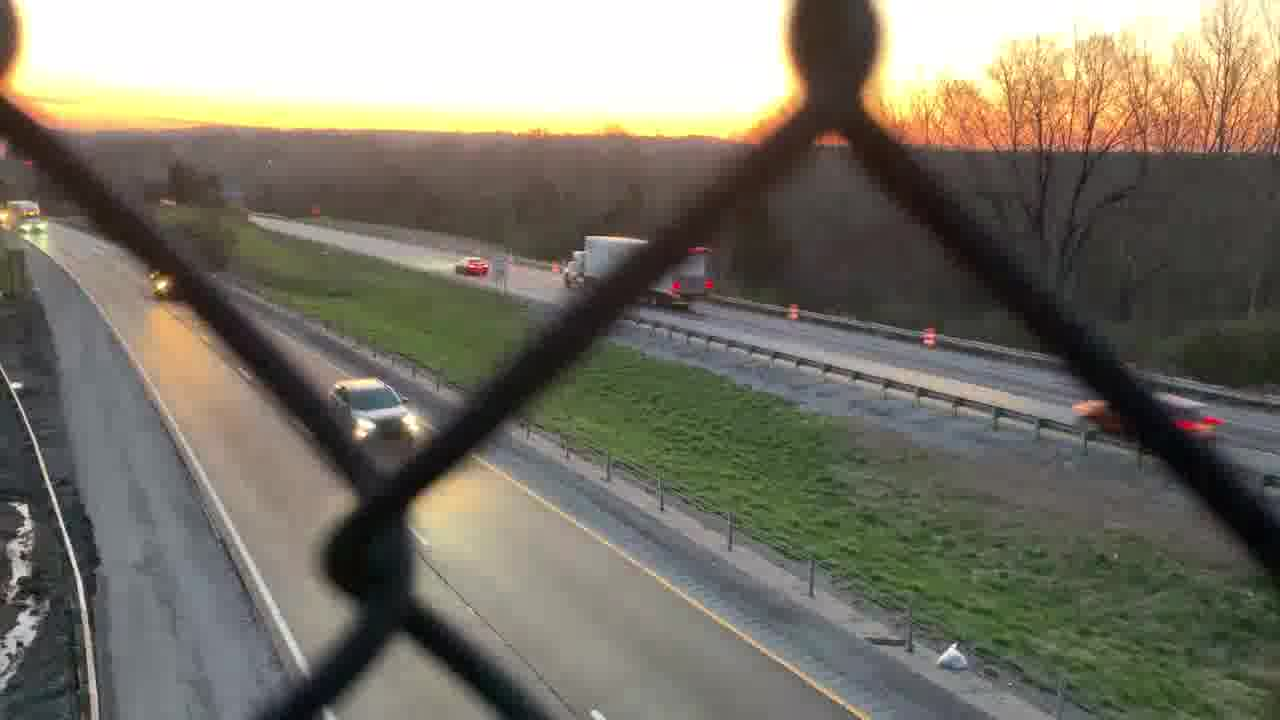heavyTruck: (564, 230, 716, 309), (10, 199, 49, 235)
largeCar: (1069, 377, 1222, 444), (325, 376, 418, 453)
smallCar: (453, 255, 496, 280)
